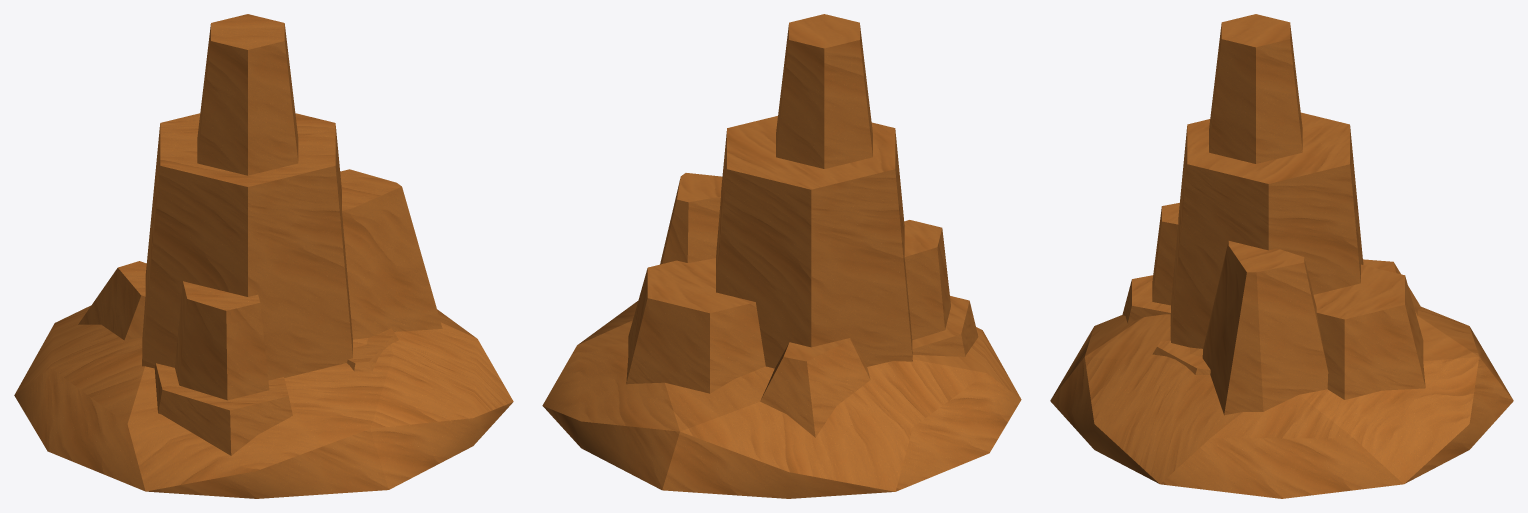
The model's file is rock1.glb.
3 renders of one model, left to right at view 1: azimuth 30°, elevation 25°; view 2: azimuth 150°, elevation 25°; view 3: azimuth 270°, elevation 25°, orthographic. The views are drawn at different scales.
Bounding box in the file's own units: 25 × 21.21 × 25.
2 materials, 1 textured.
